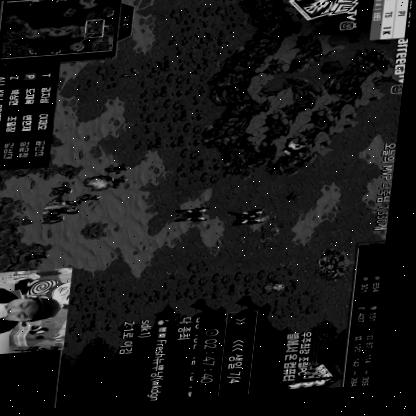streamer: (0, 280, 71, 338)
